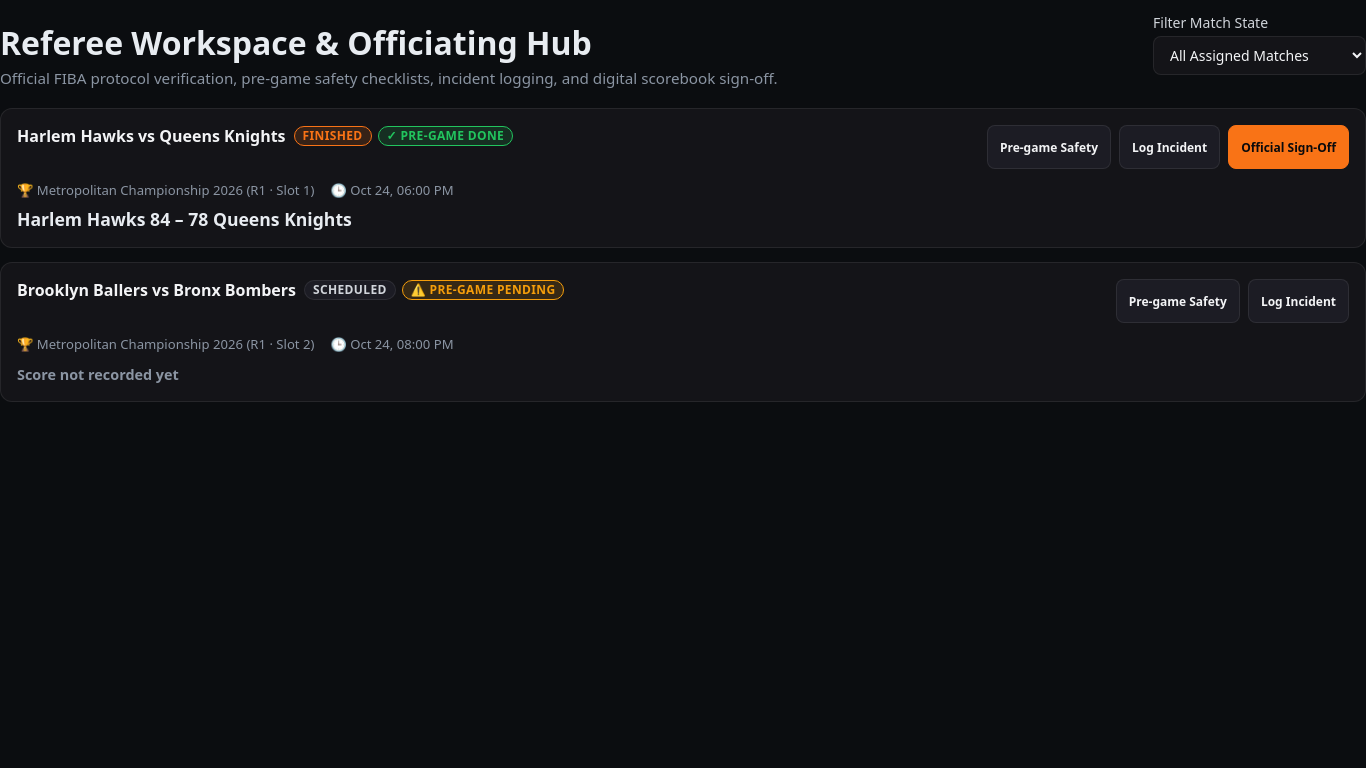
it: RefereeWorkspace Component (Spec §23.2, §16.4) › opens official sign-off dialog for finished matches
The image size is (1366, 768).
Click the button "Official Sign-Off". click: click(1289, 147)
box: [1228,125,1349,169]
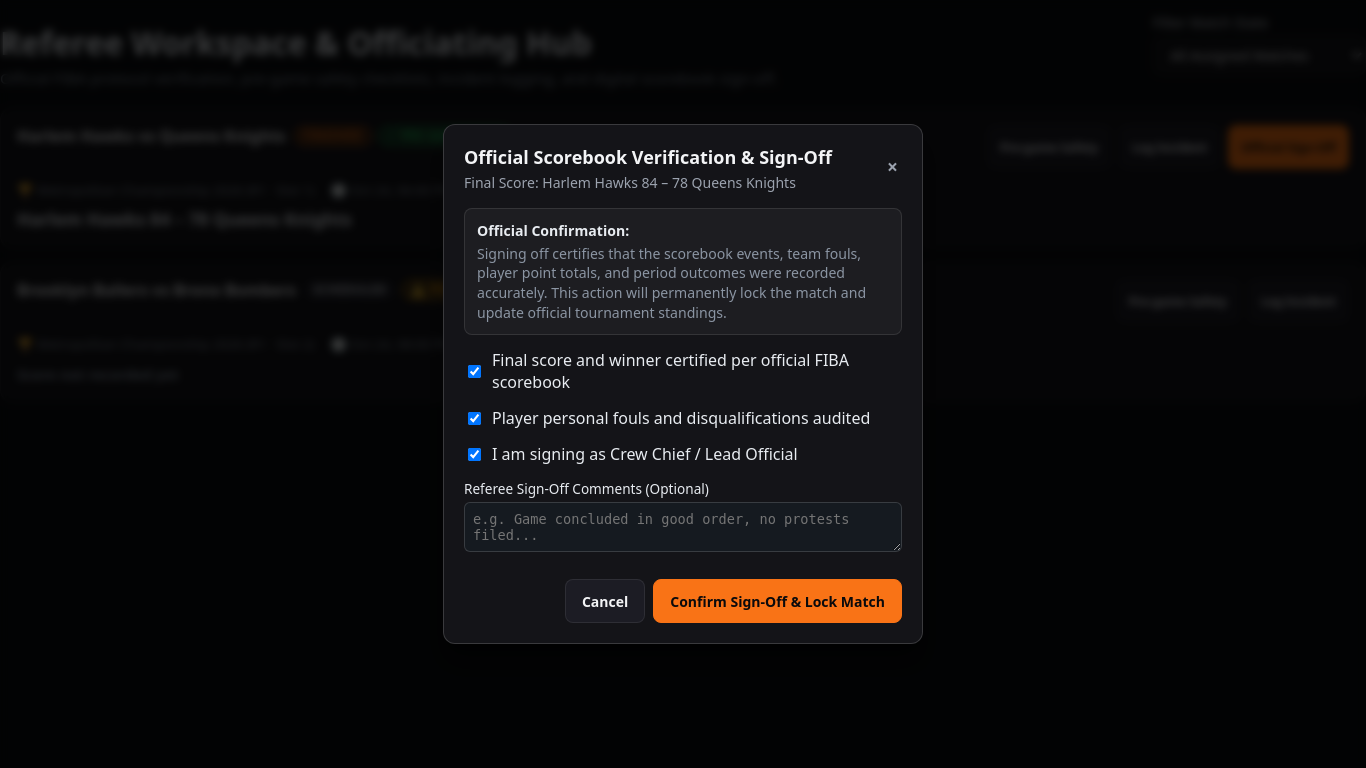
Expected: the heading "Official Scorebook Verification & Sign-Off" is shown, [464,145,832,169]
Expected: the text "Signing off certifies that the scorebook events" is shown, [477,244,866,322]
Expected: the text "Final score and winner certified per official FIBA scorebook" is shown, [492,349,902,393]
